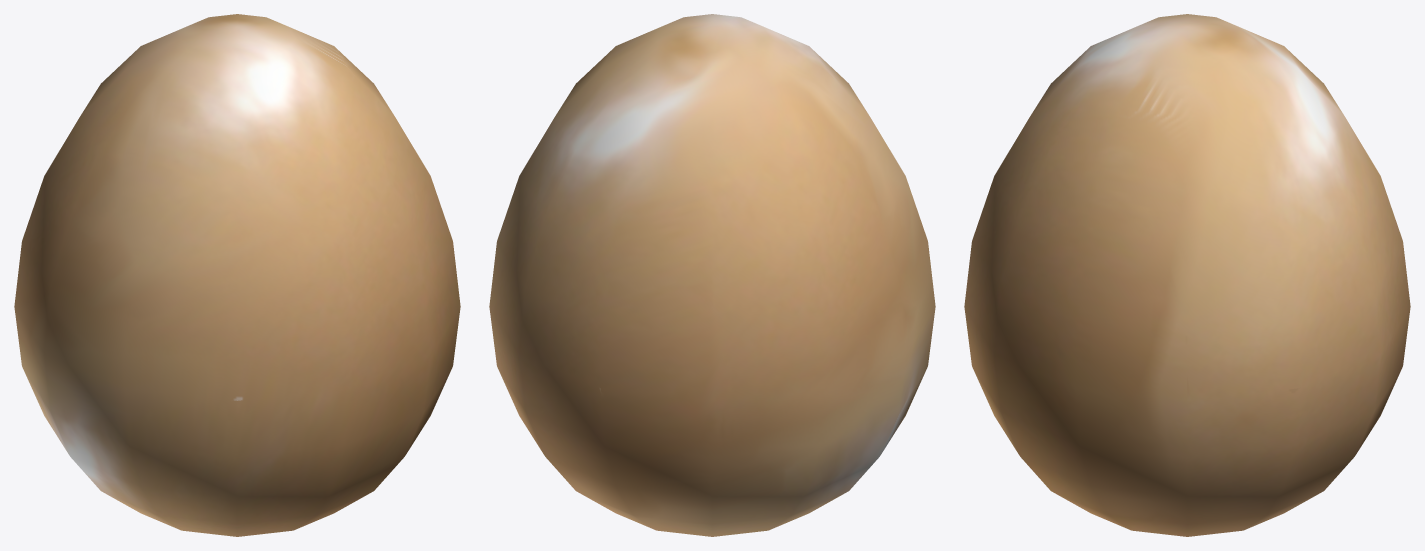
File: egg.fbx
3 renders of one model, left to right at view 1: azimuth 30°, elevation 25°; view 2: azimuth 150°, elevation 25°; view 3: azimuth 270°, elevation 25°, orthographic.
Visible parts, largest first — view 1: egg; view 2: egg; view 3: egg.
Part boxes in pixels (bbox=[...]): egg: bbox=[14, 14, 460, 536]; egg: bbox=[489, 14, 935, 536]; egg: bbox=[964, 14, 1410, 536].
Size of the model in its own units: 3.69 by 4.47 by 3.69.
